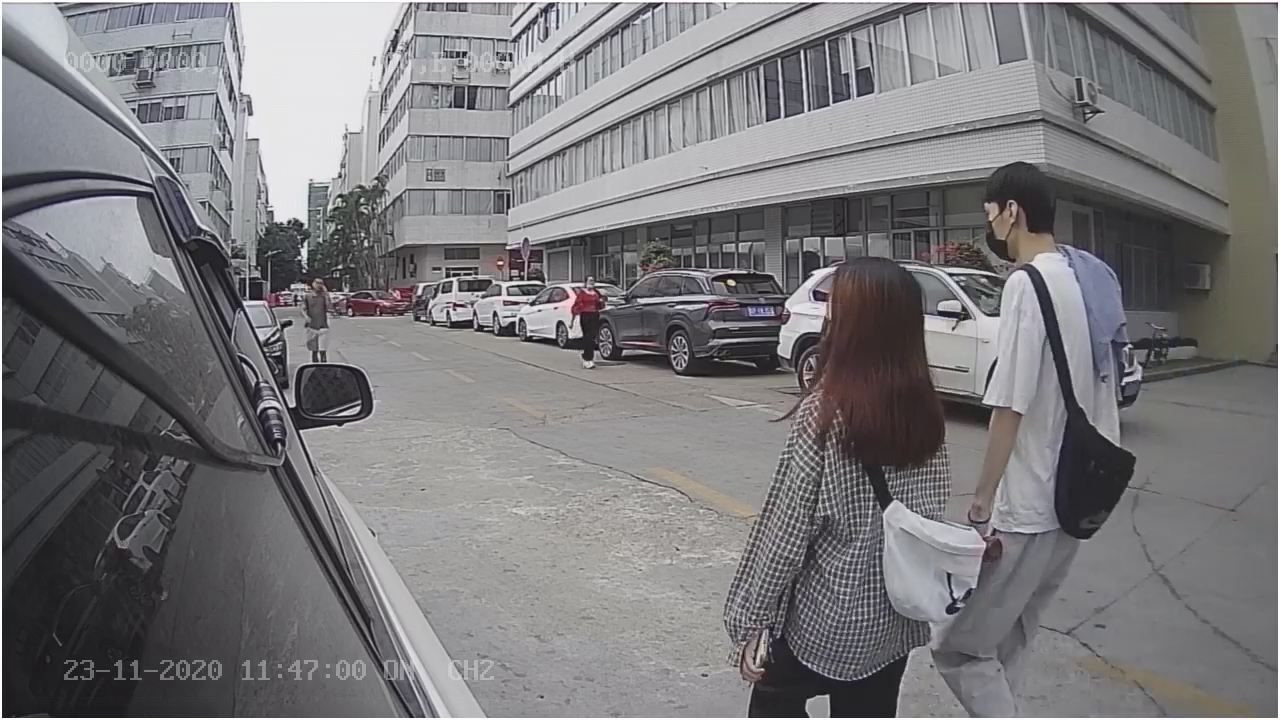person: (968, 152, 1150, 542), (775, 254, 951, 556)
